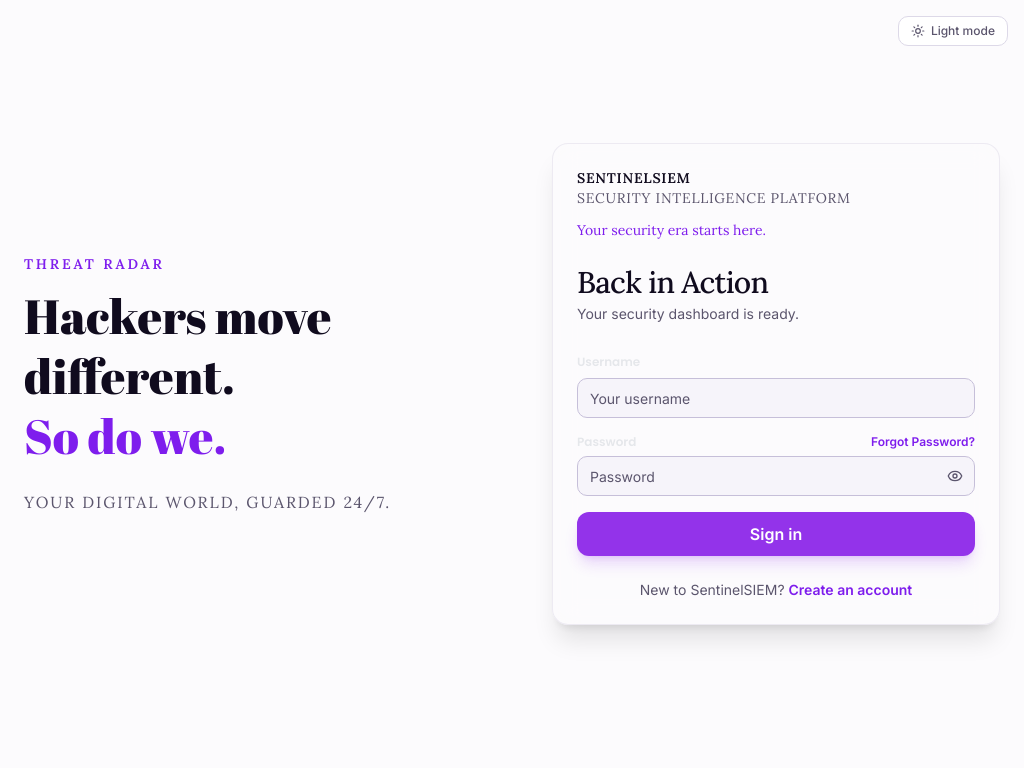
Login page › shows a generic message for a 401
This screenshot has width=1024, height=768.
Type "alice" into the field labelled "Username" at (776, 398), box left=577, top=378, right=975, bottom=418
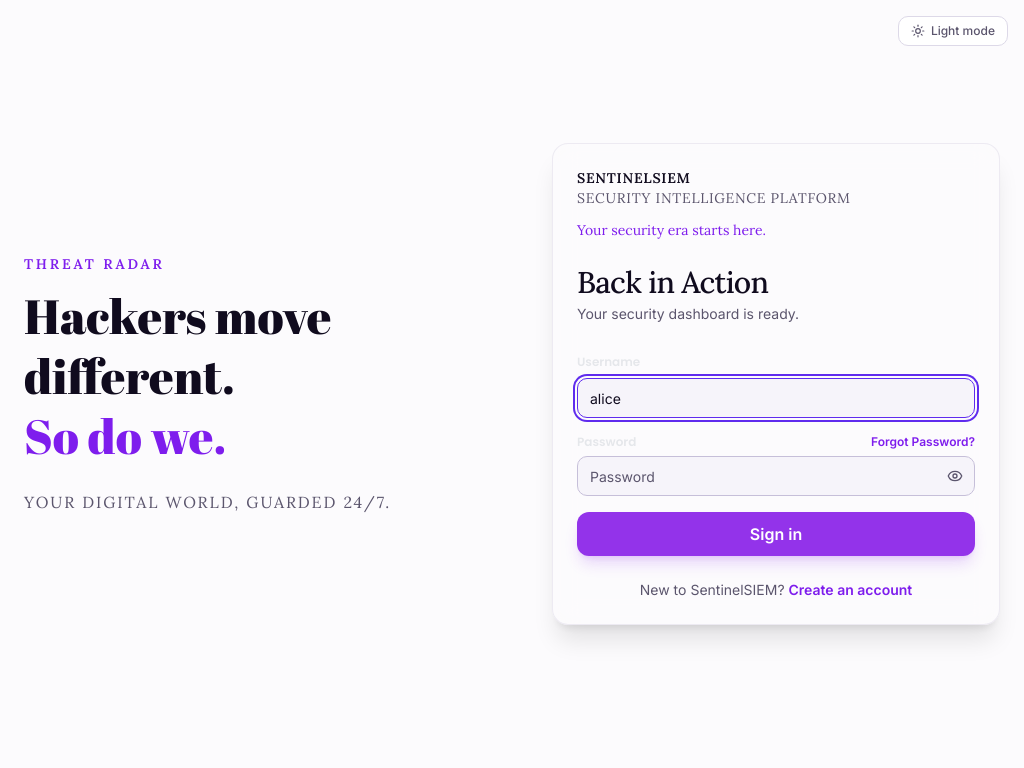
Type "x" into the password field labelled "Password" at (776, 476), box left=577, top=456, right=975, bottom=496
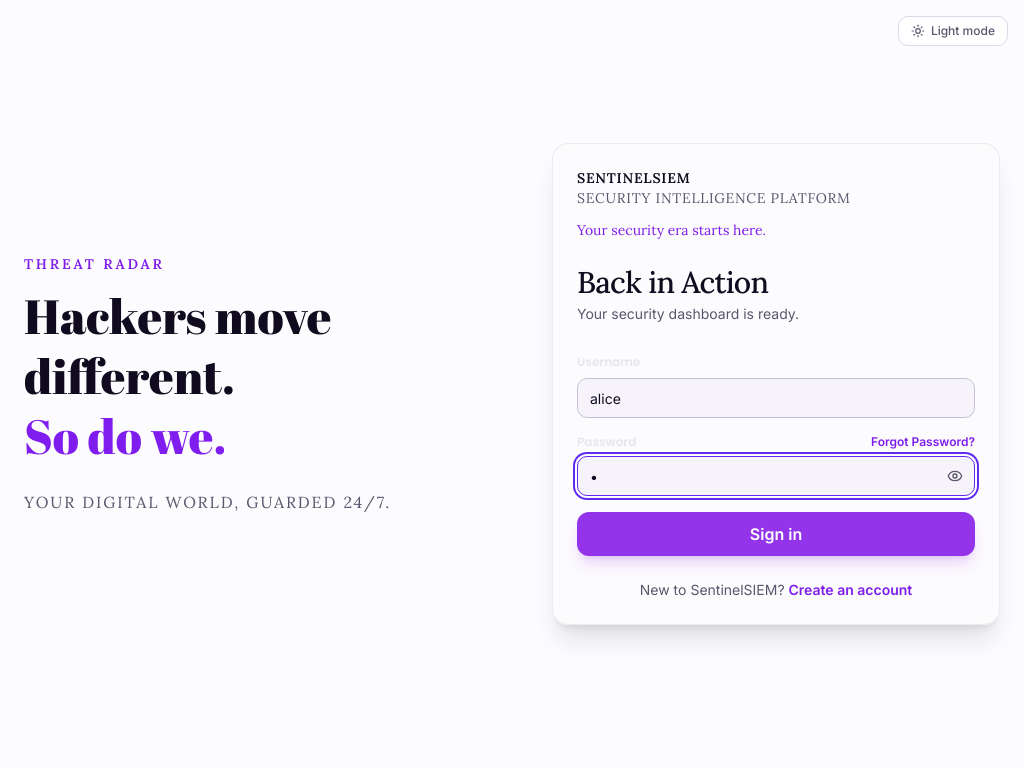
Click the button "Sign in" at (776, 534), box left=577, top=512, right=975, bottom=556
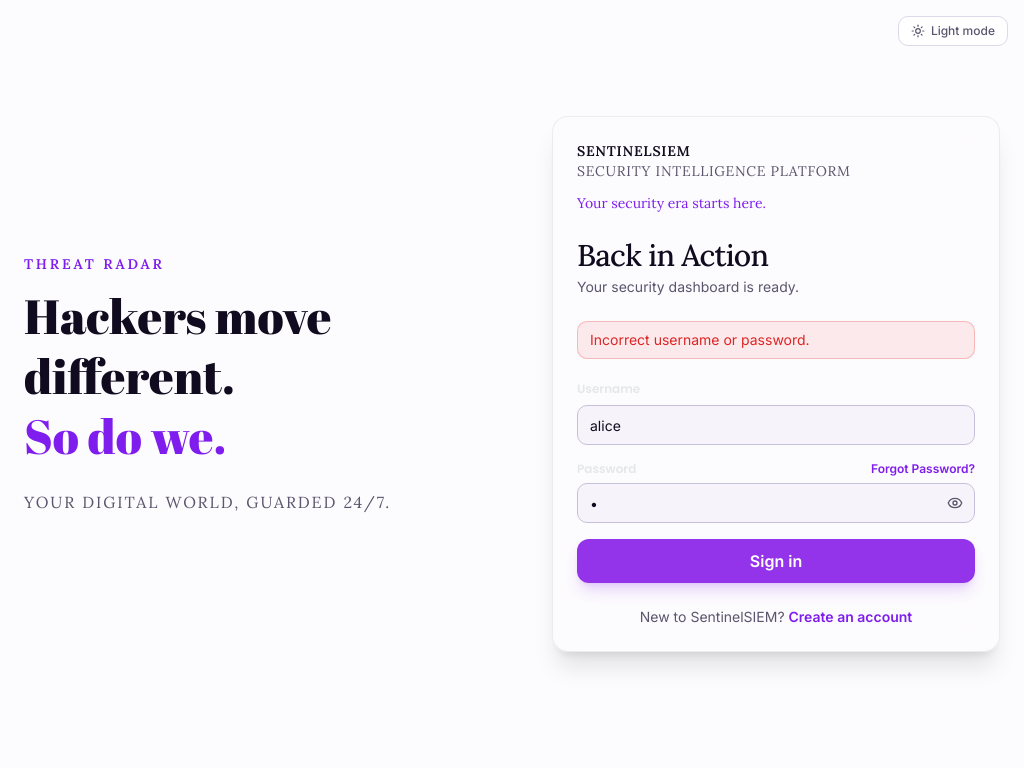
Expected: the message reads "Incorrect username or password.", left=590, top=331, right=810, bottom=348
